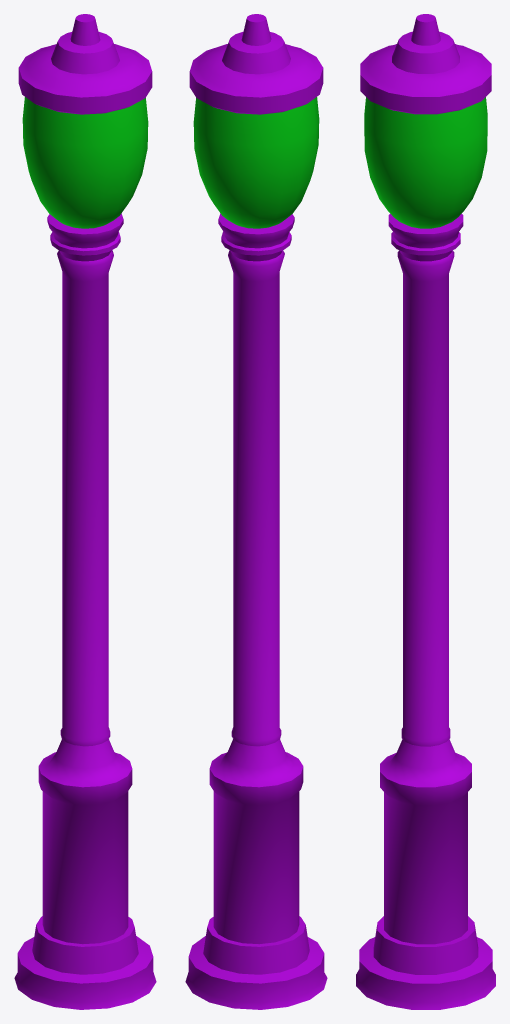
Rendered from Lamp.fbx.
3 views of the same model, side by side, from view 1: azimuth 30°, elevation 25°; view 2: azimuth 150°, elevation 25°; view 3: azimuth 270°, elevation 25° (orthographic).
Parts seen in each view (by area): view 1: Lamppost_low; view 2: Lamppost_low; view 3: Lamppost_low.
Boxes of the visible parts, left/top/right/bottom form: Lamppost_low: left=14, top=14, right=156, bottom=1009; Lamppost_low: left=185, top=14, right=327, bottom=1009; Lamppost_low: left=356, top=14, right=495, bottom=1009.
Bounding box in the file's own units: 0.2633 × 2 × 0.2633.
